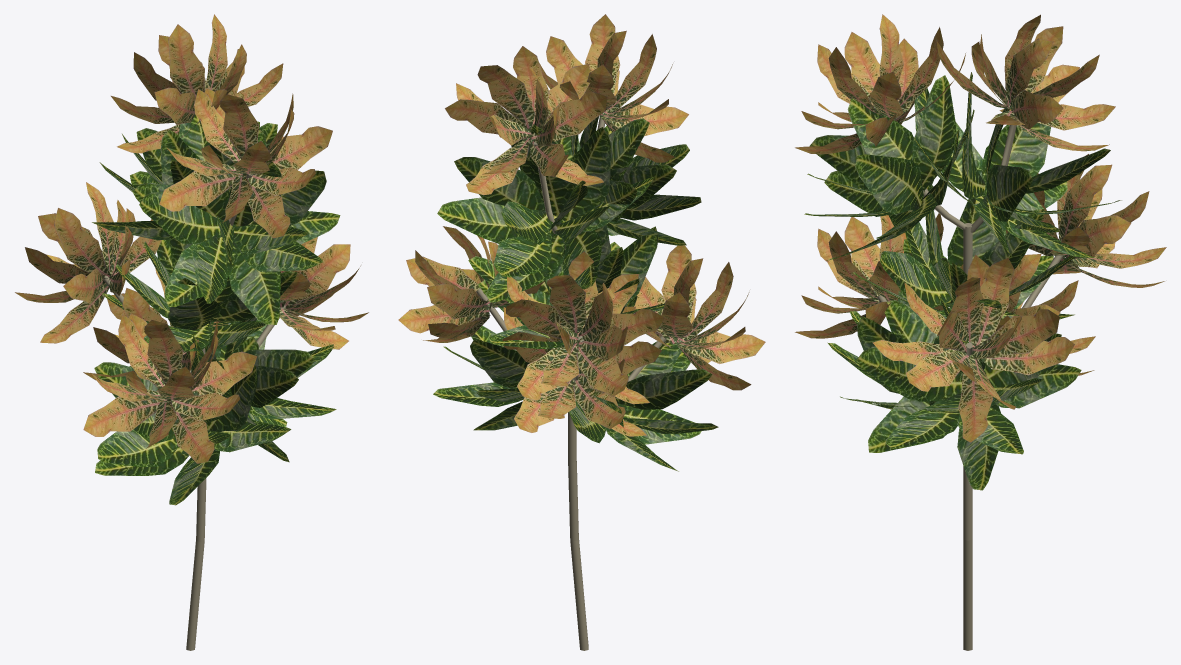
File: croton_verde.glb
3 renders of one model, left to right at view 1: azimuth 30°, elevation 25°; view 2: azimuth 150°, elevation 25°; view 3: azimuth 270°, elevation 25°, orthographic. The views are drawn at different scales.
Visible parts, largest first — view 1: Mesh21 Croton_b1 yellow_croton_head1 W3D_Croton_verde_amaril, Mesh7 cortonleat_a1 green_head1 W3D_Croton_verde_amarillo___, Mesh1 Group1 W3D_Croton_verde_amarillo___Darrell_Smith1 Mode; view 2: Mesh21 Croton_b1 yellow_croton_head1 W3D_Croton_verde_amaril, Mesh7 cortonleat_a1 green_head1 W3D_Croton_verde_amarillo___, Mesh1 Group1 W3D_Croton_verde_amarillo___Darrell_Smith1 Mode; view 3: Mesh21 Croton_b1 yellow_croton_head1 W3D_Croton_verde_amaril, Mesh7 cortonleat_a1 green_head1 W3D_Croton_verde_amarillo___, Mesh1 Group1 W3D_Croton_verde_amarillo___Darrell_Smith1 Mode.
Boxes of the visible parts, bbox=[...] form: Mesh21 Croton_b1 yellow_croton_head1 W3D_Croton_verde_amaril: bbox=[15, 14, 368, 463]; Mesh7 cortonleat_a1 green_head1 W3D_Croton_verde_amarillo___: bbox=[92, 115, 340, 505]; Mesh1 Group1 W3D_Croton_verde_amarillo___Darrell_Smith1 Mode: bbox=[103, 174, 286, 650]; Mesh21 Croton_b1 yellow_croton_head1 W3D_Croton_verde_amaril: bbox=[398, 14, 765, 436]; Mesh7 cortonleat_a1 green_head1 W3D_Croton_verde_amarillo___: bbox=[433, 116, 718, 471]; Mesh1 Group1 W3D_Croton_verde_amarillo___Darrell_Smith1 Mode: bbox=[476, 114, 665, 650]; Mesh21 Croton_b1 yellow_croton_head1 W3D_Croton_verde_amaril: bbox=[795, 14, 1166, 442]; Mesh7 cortonleat_a1 green_head1 W3D_Croton_verde_amarillo___: bbox=[804, 72, 1121, 490]; Mesh1 Group1 W3D_Croton_verde_amarillo___Darrell_Smith1 Mode: bbox=[877, 125, 1063, 650].
Bounding box in the file's own units: 0.9131 × 1.67 × 0.8735.
Materials: 4 (2 with a texture image).
